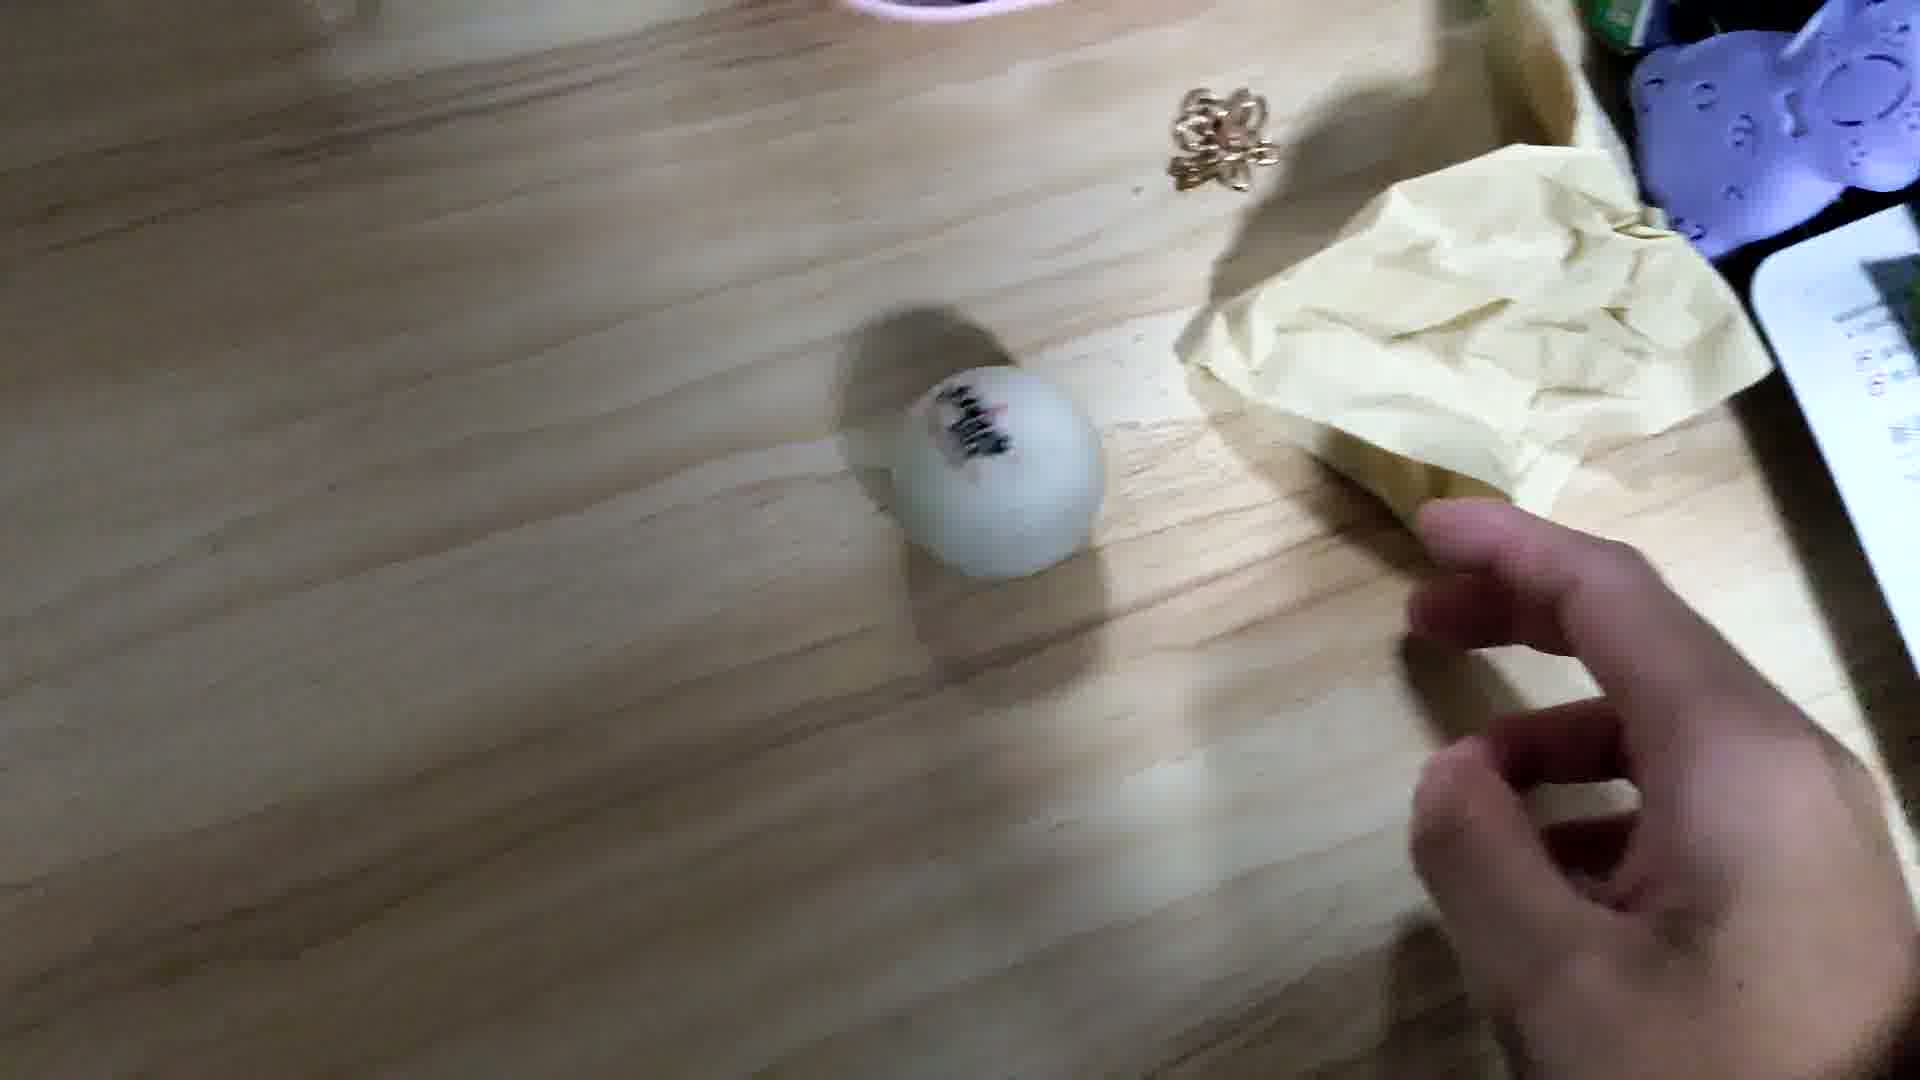Ball: (893, 363, 1112, 582)
